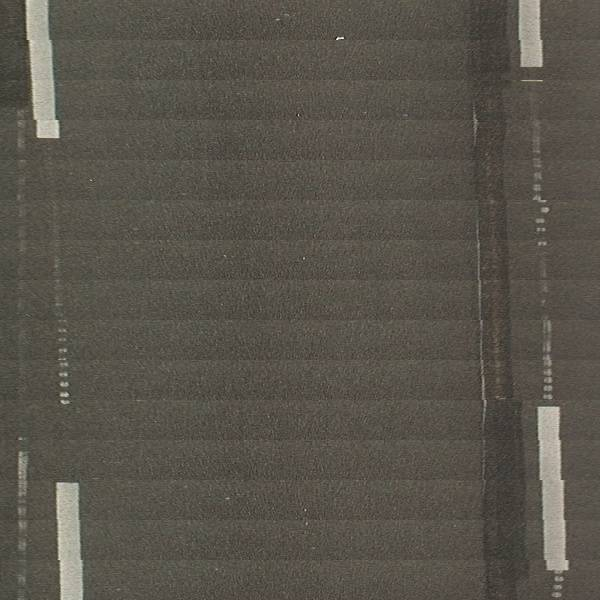road_damage: (470, 85, 517, 401)
